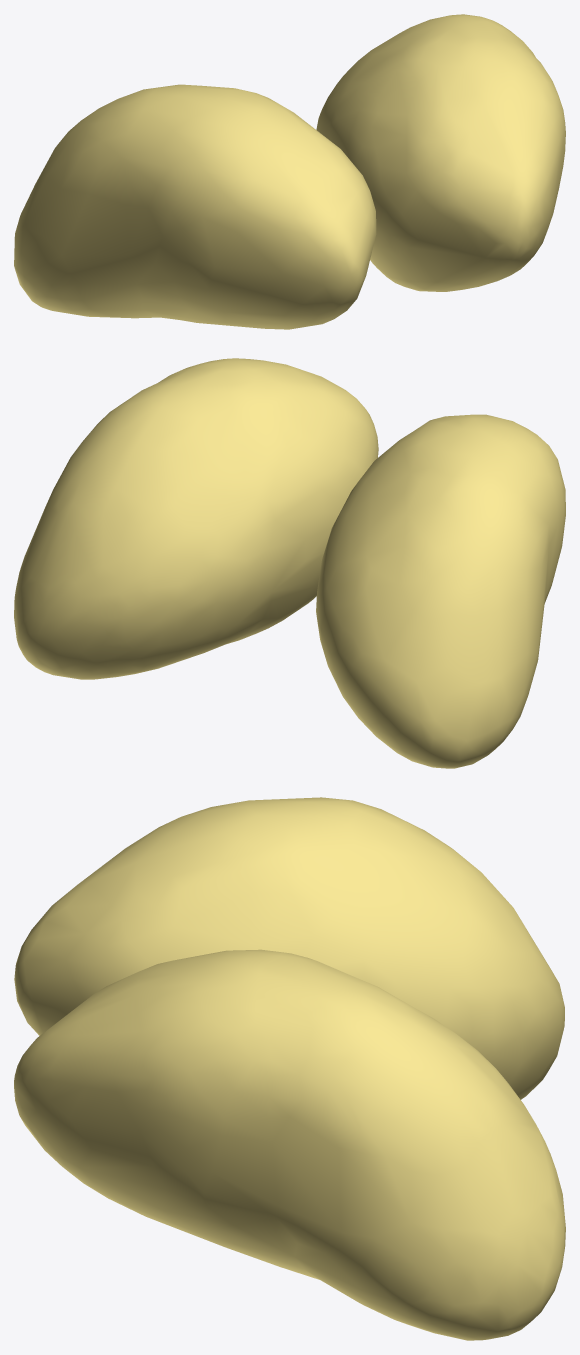
The model's file is talamo.glb.
3 views of the same model, one above another, from view 1: azimuth 30°, elevation 25°; view 2: azimuth 150°, elevation 25°; view 3: azimuth 270°, elevation 25° (orthographic). The views are drawn at different scales.
Parts seen in each view (by area): view 1: talamo; view 2: talamo; view 3: talamo.
Part boxes in pixels (box(x1,y1,x2,y2)): talamo: box(14, 14, 565, 329); talamo: box(14, 358, 565, 768); talamo: box(14, 797, 565, 1340).
Size of the model in its own units: 0.048 by 0.0237 by 0.0366.
